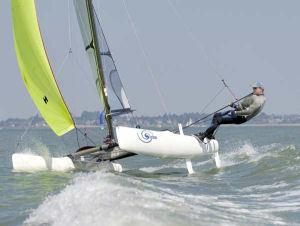Ship: (11, 1, 221, 175)
